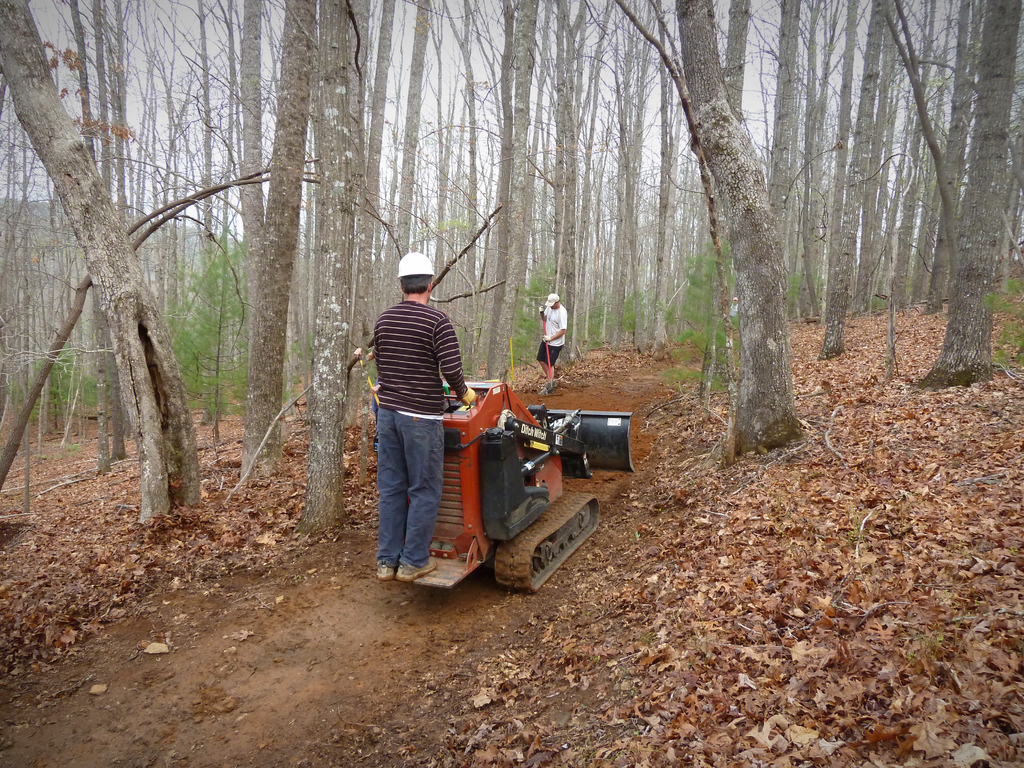Tree: (0, 0, 1023, 538)
